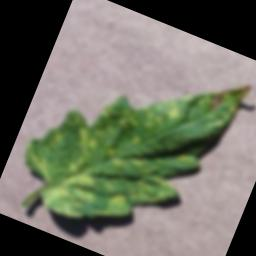Leaf_Mold: (8, 16, 253, 256)
